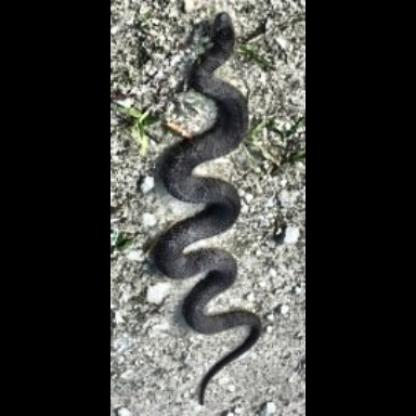Snake: (138, 1, 284, 416)
